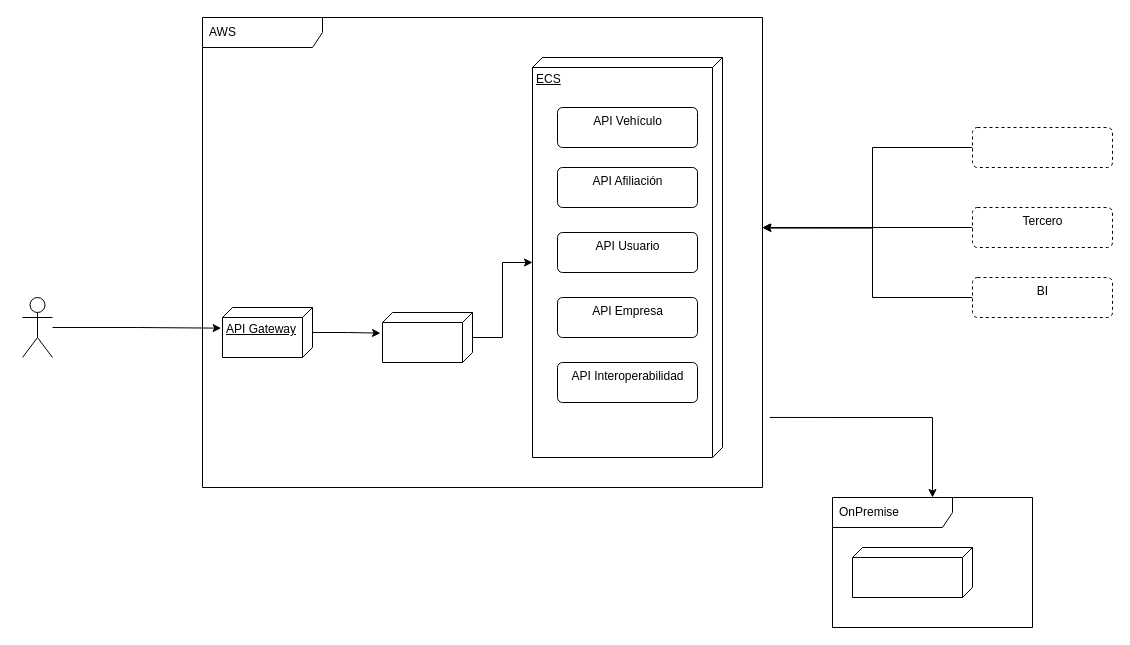
This 1130x645 diagram has some shape labels left out. Here are the shapes that lost their labels. From the top down, the centre of each, then its label:
point (1042, 147): Confluent (Kafka)
point (37, 327): Usuario (Front)
point (427, 337): Balanceador
point (912, 572): DB Server
